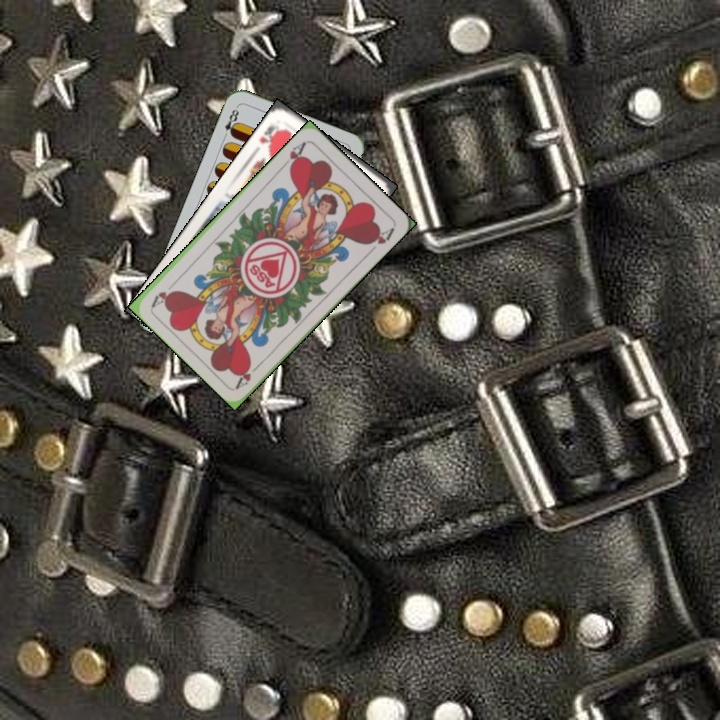E8: (219, 103, 241, 141)
HA: (277, 137, 309, 173), (232, 358, 265, 391)
HK: (255, 121, 284, 150)
